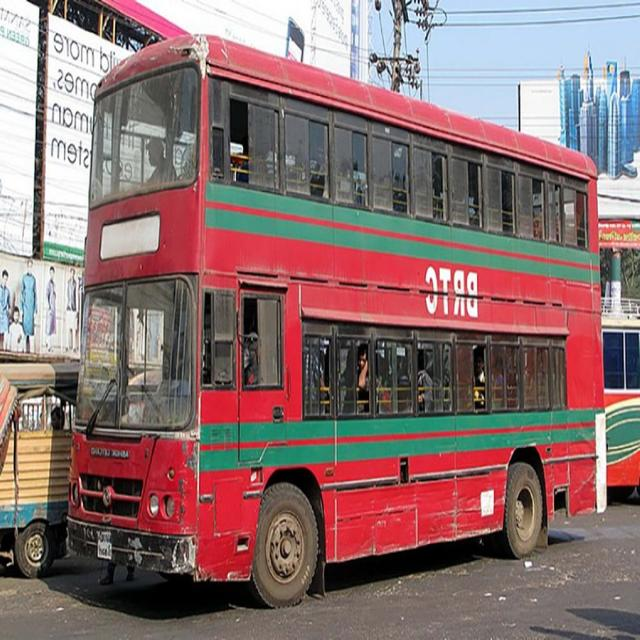Double decker: (68, 24, 614, 607)
